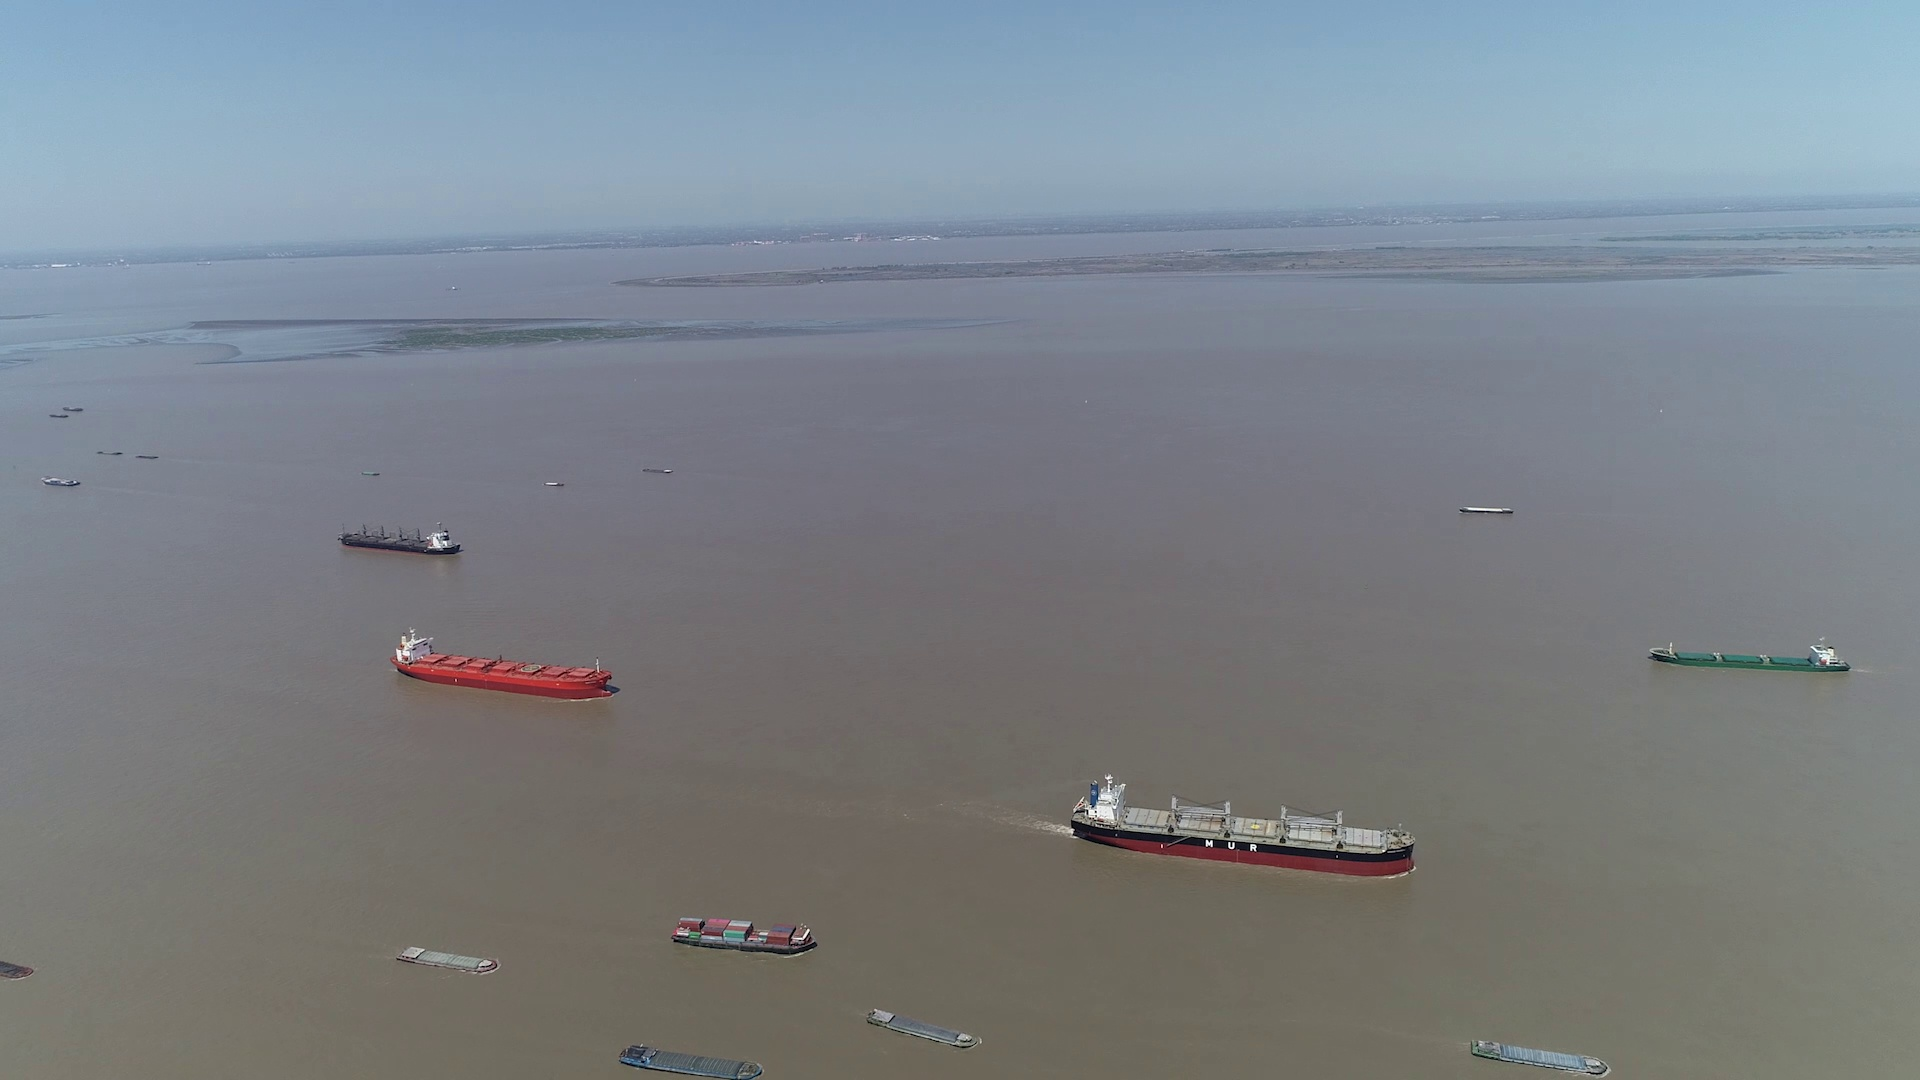ship: (1069, 777, 1416, 876), (392, 632, 611, 700), (1648, 640, 1851, 673), (673, 918, 816, 955), (1473, 1039, 1610, 1077), (617, 1044, 765, 1079), (866, 1009, 980, 1051), (339, 521, 462, 555), (400, 945, 500, 975), (0, 953, 36, 981), (1460, 505, 1515, 516), (44, 475, 82, 488)
